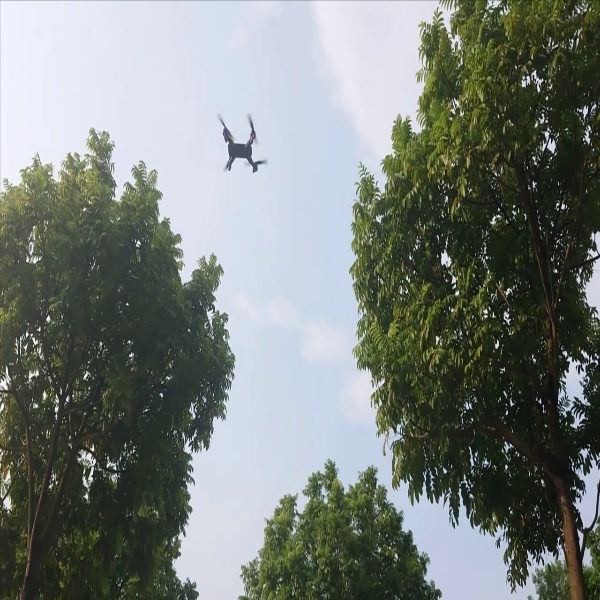drone: (206, 107, 269, 176)
